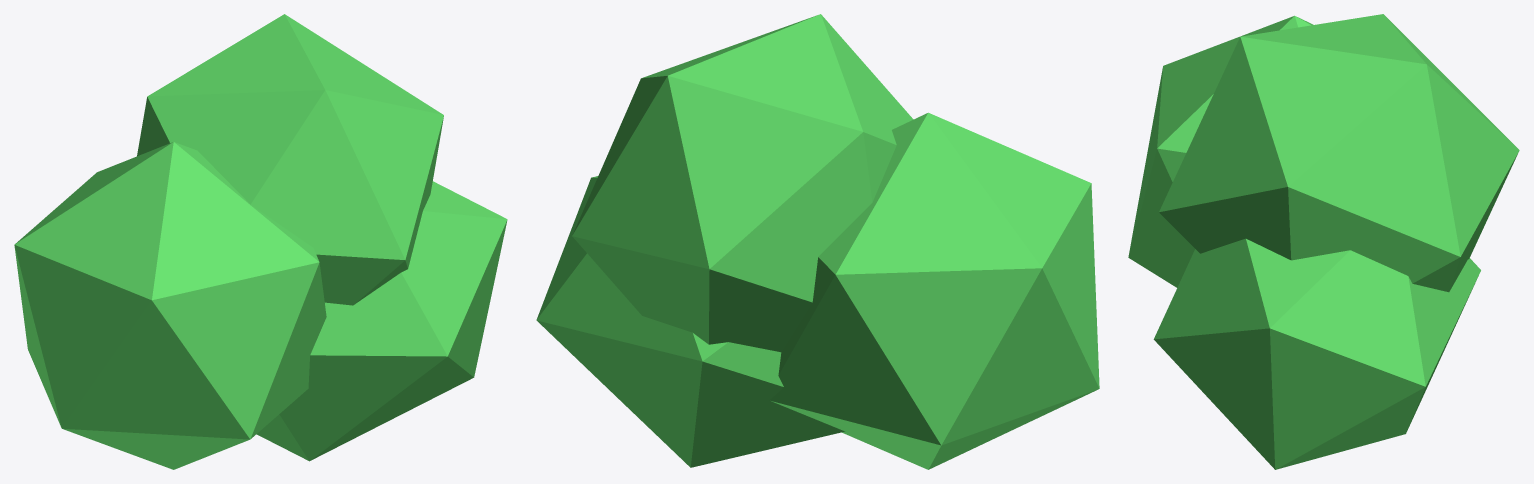
The model's file is krzaczek1.gltf.
3 views of the same model, side by side, from view 1: azimuth 30°, elevation 25°; view 2: azimuth 150°, elevation 25°; view 3: azimuth 270°, elevation 25° (orthographic). The views are drawn at different scales.
Parts seen in each view (by area): view 1: Icosphere, Icosphere.001, Icosphere.002; view 2: Icosphere, Icosphere.001, Icosphere.002; view 3: Icosphere.001, Icosphere.002, Icosphere.
Boxes of the visible parts, bbox=[...] form: Icosphere: bbox=[14, 142, 326, 469]; Icosphere.001: bbox=[137, 14, 443, 305]; Icosphere.002: bbox=[256, 181, 507, 461]; Icosphere: bbox=[769, 112, 1099, 469]; Icosphere.001: bbox=[572, 14, 913, 352]; Icosphere.002: bbox=[536, 176, 844, 467]; Icosphere.001: bbox=[1159, 14, 1519, 292]; Icosphere.002: bbox=[1153, 238, 1480, 469]; Icosphere: bbox=[1128, 15, 1313, 287].
Size of the model in its own units: 2.85 by 2.2 by 2.06.
